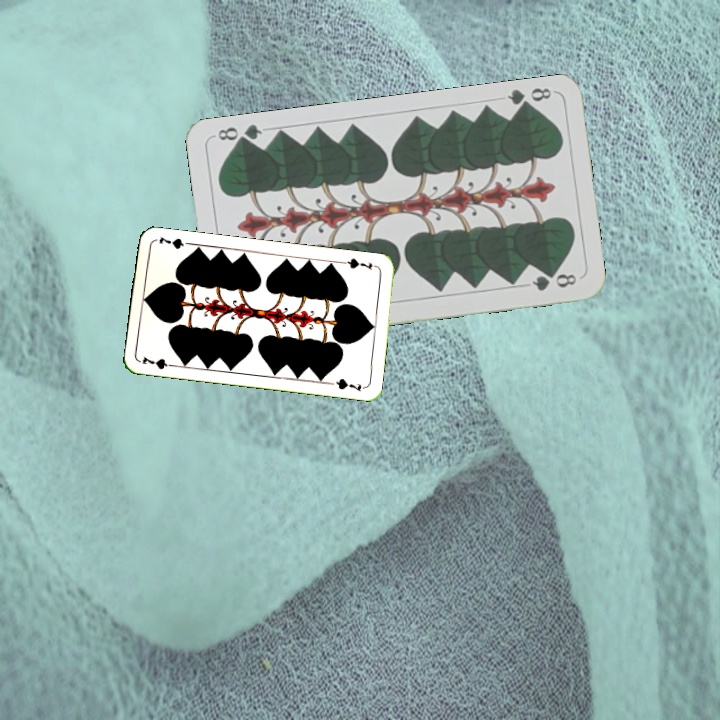G7: (138, 352, 178, 372), (339, 254, 380, 272)
G8: (503, 84, 556, 114)
